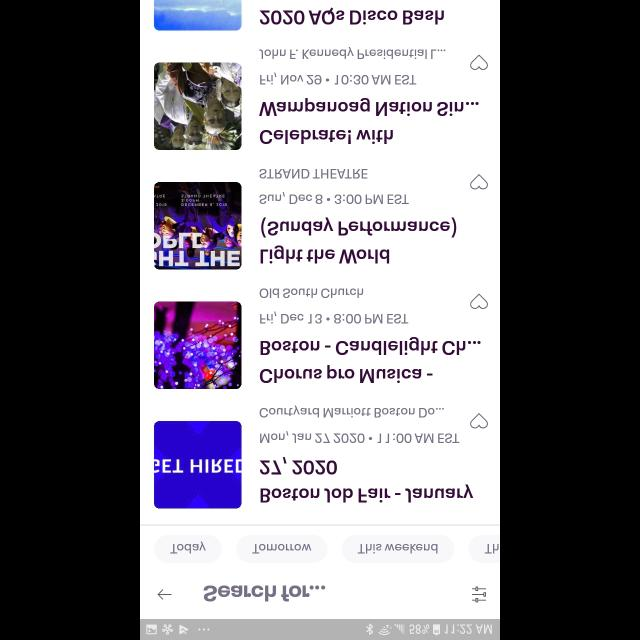icon: (470, 54, 488, 70), (470, 174, 488, 190), (470, 293, 488, 309), (470, 412, 488, 428), (472, 586, 486, 602), (158, 588, 172, 600)
image: (154, 62, 242, 150), (154, 182, 242, 270), (154, 301, 242, 389), (154, 420, 242, 508), (154, 1, 242, 32)
text: (260, 336, 480, 384), (259, 98, 479, 144), (260, 457, 474, 503), (261, 216, 457, 264), (260, 405, 460, 443), (258, 47, 446, 85), (259, 168, 409, 204), (260, 288, 408, 324), (260, 7, 444, 25), (204, 584, 326, 602)
textbutton: (342, 535, 454, 563), (236, 535, 328, 563), (154, 535, 222, 563), (468, 535, 499, 563)
uppertaskbar: (140, 618, 500, 640)
